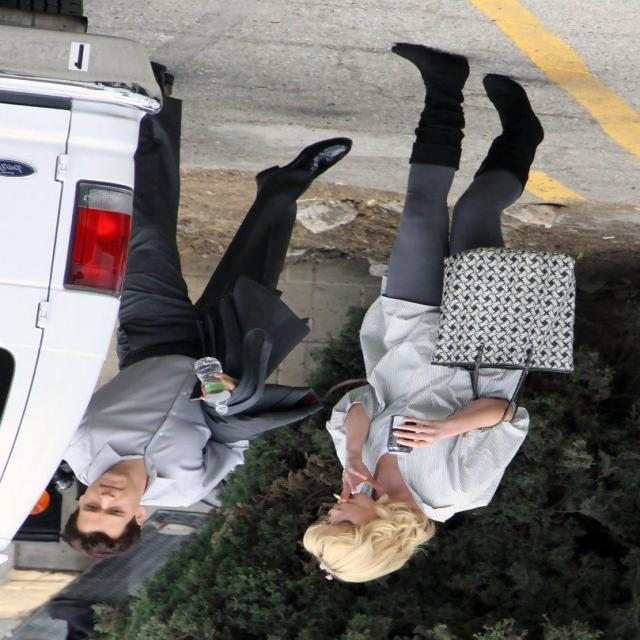cigarette: (328, 482, 356, 506)
